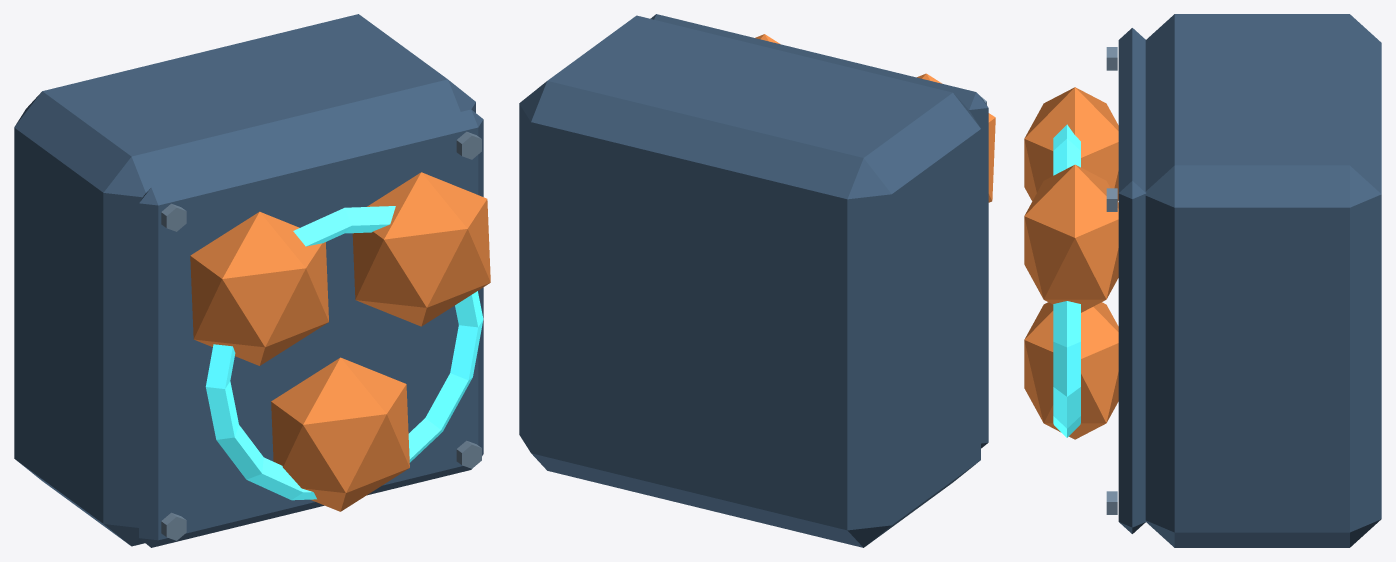
Rendered from splitter.glb.
3 renders of one model, left to right at view 1: azimuth 30°, elevation 25°; view 2: azimuth 150°, elevation 25°; view 3: azimuth 270°, elevation 25°, orthographic.
Visible parts, largest first — view 1: Structural core.008, Front armor.008, Split nucleus, Split nucleus.002, Split nucleus.001, Conservation ring; view 2: Structural core.008, Front armor.008, Split nucleus; view 3: Structural core.008, Front armor.008, Split nucleus.001, Split nucleus.002, Split nucleus, Conservation ring.
Boxes of the visible parts, x1,y1,x2,y2 form: Structural core.008: (14, 14, 475, 546); Front armor.008: (139, 109, 483, 547); Split nucleus: (190, 211, 328, 365); Split nucleus.002: (271, 357, 409, 511); Split nucleus.001: (352, 172, 490, 326); Conservation ring: (205, 206, 483, 500); Structural core.008: (519, 15, 980, 547); Front armor.008: (650, 14, 988, 448); Split nucleus: (917, 73, 995, 202); Structural core.008: (1145, 14, 1381, 547); Front armor.008: (1118, 28, 1146, 533); Split nucleus.001: (1024, 164, 1118, 312); Split nucleus.002: (1024, 302, 1118, 439); Split nucleus: (1024, 87, 1118, 201); Conservation ring: (1053, 124, 1080, 437).
Bounding box in the file's own units: 1.06 × 1.06 × 0.8976.
